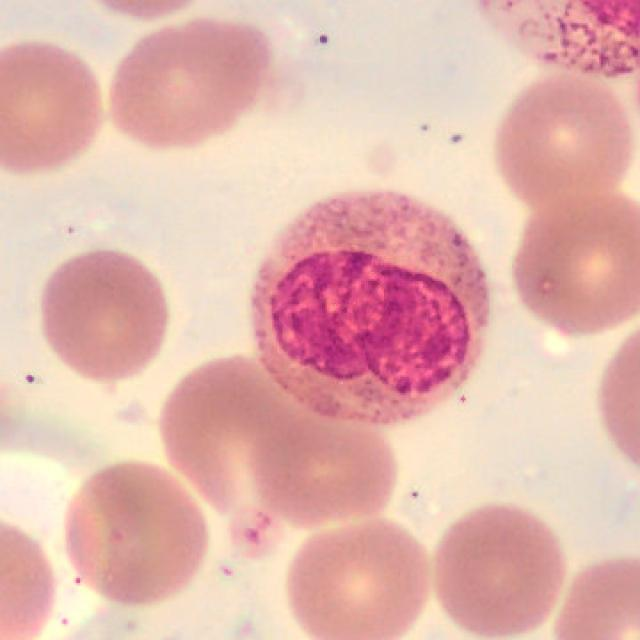Metamielocito: (251, 190, 491, 428)
